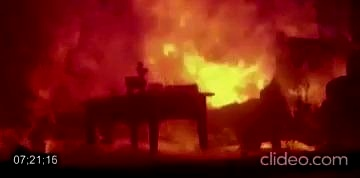fire: (6, 0, 359, 150)
